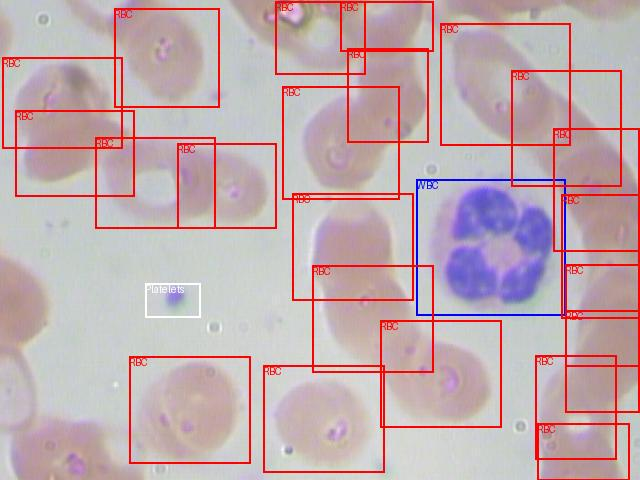Platelets: (145, 283, 200, 317)
RBC: (440, 23, 570, 145), (282, 86, 399, 199), (292, 193, 413, 300), (312, 265, 433, 372), (380, 320, 501, 427), (263, 365, 384, 472), (129, 356, 250, 463), (511, 70, 621, 186), (95, 137, 215, 228), (2, 57, 122, 148), (553, 128, 639, 251), (114, 8, 219, 107), (15, 110, 134, 196), (561, 194, 639, 318), (535, 355, 616, 459), (177, 143, 276, 228), (347, 48, 428, 142), (565, 264, 639, 366), (565, 310, 639, 412), (275, 1, 365, 74), (537, 423, 629, 480), (340, 1, 433, 51)
WBC: (416, 179, 565, 315)
